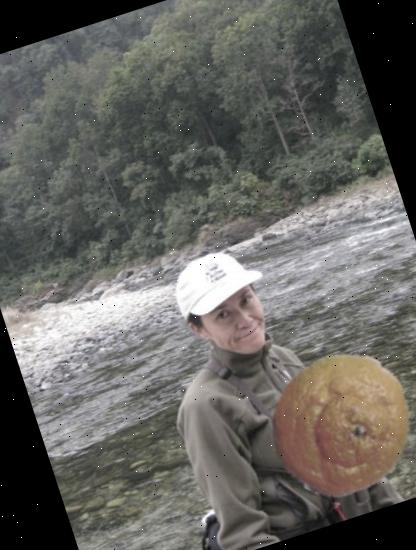Mandarine: (248, 331, 416, 516)
